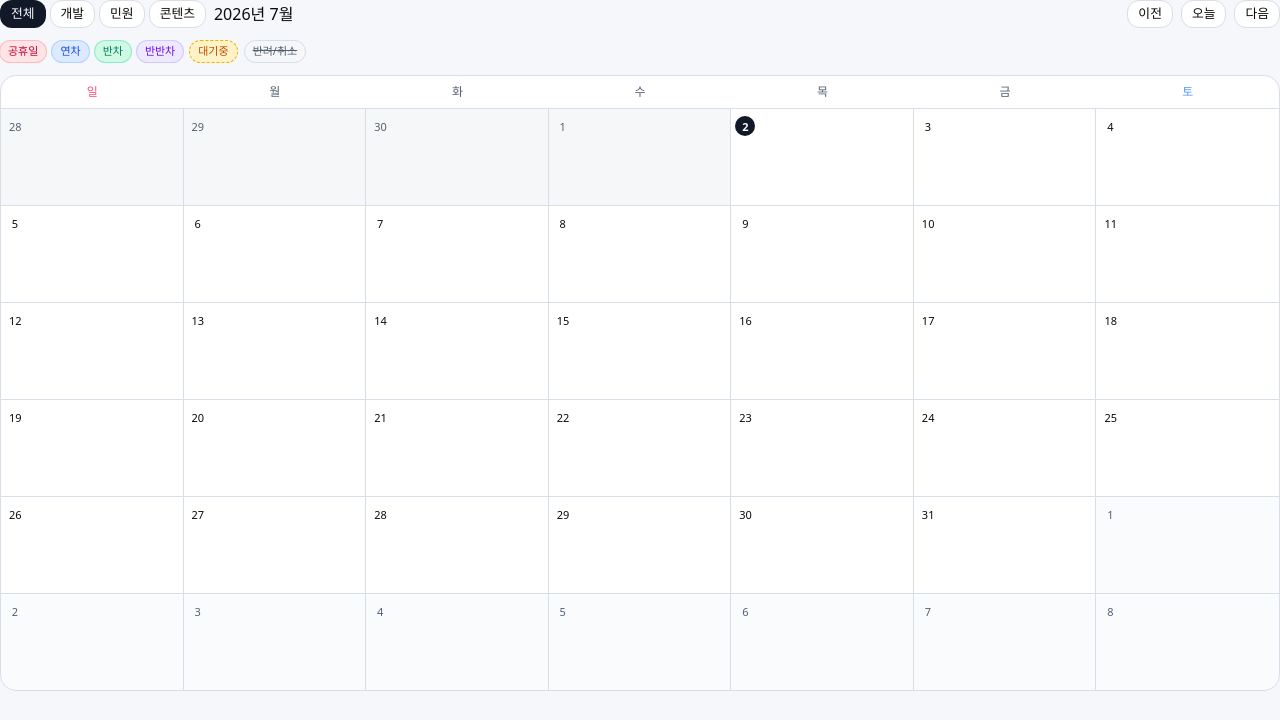
Test: LeaveCalendar — 능력별 진입 분리(R1/R4) › canCreate=true·canManage=false: 자가신청 유지(+ 노출·팝오버 신청), 관리자 입력 없음
Click the button "15": (640, 350) [549,302,731,398]
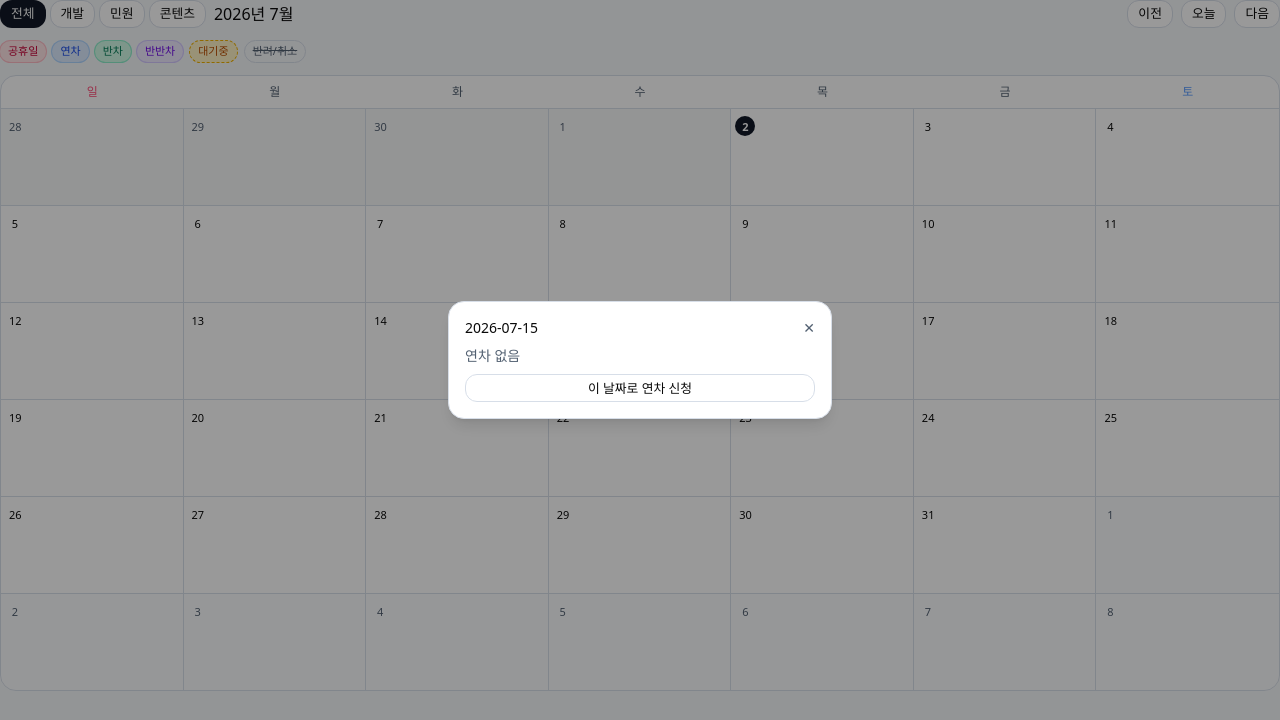
Result: the button "이 날짜로 연차 신청" is shown at [465,374,815,402]
